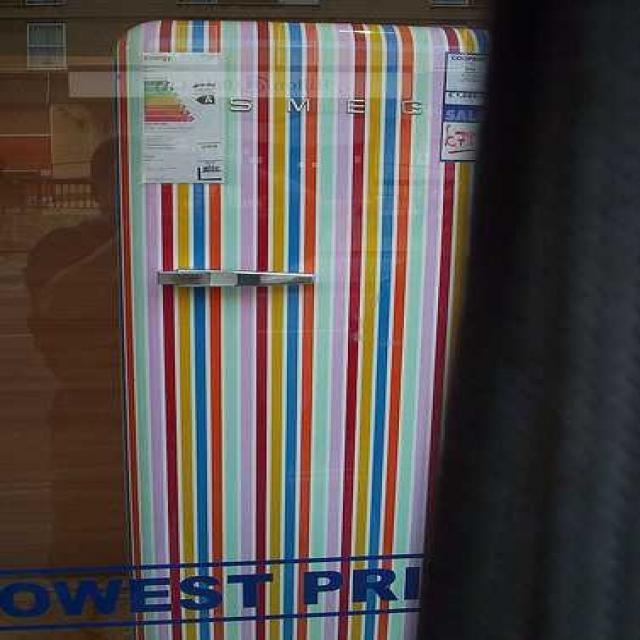refrigerator: (121, 22, 487, 640)
